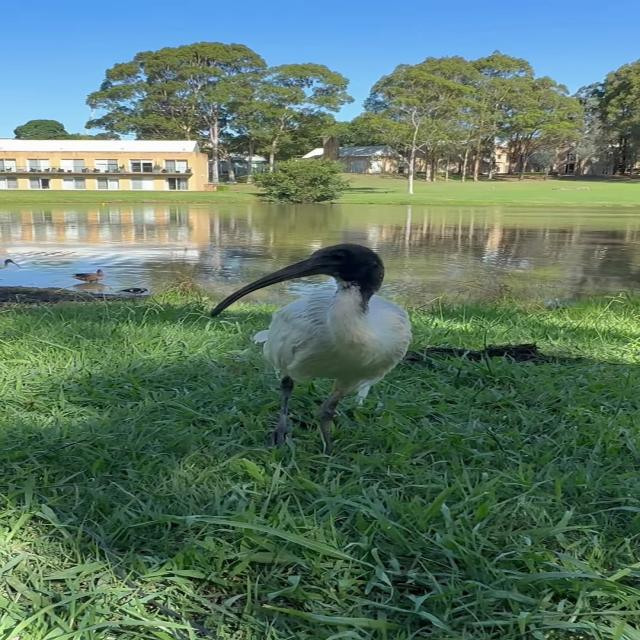Birds-Ibis: (205, 239, 424, 458), (1, 256, 27, 274)
Birds-Other: (67, 264, 111, 290)
